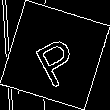P_NW: (27, 24, 83, 86)
